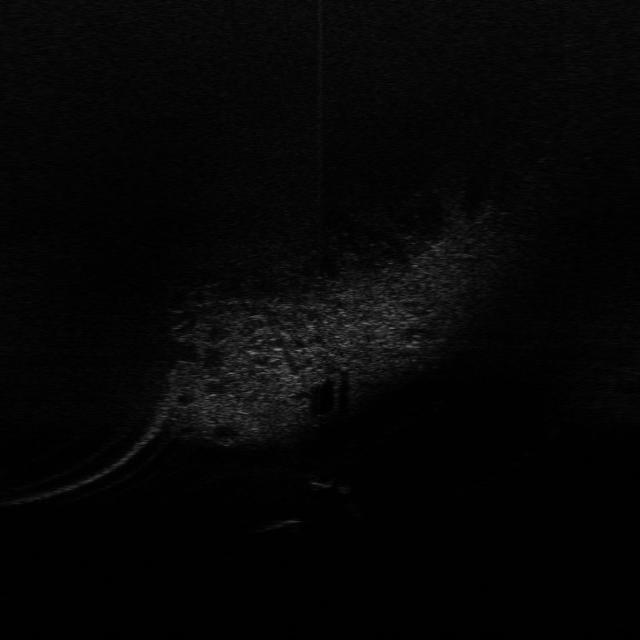cube: (306, 470, 338, 490)
cylinder: (334, 478, 350, 496)
